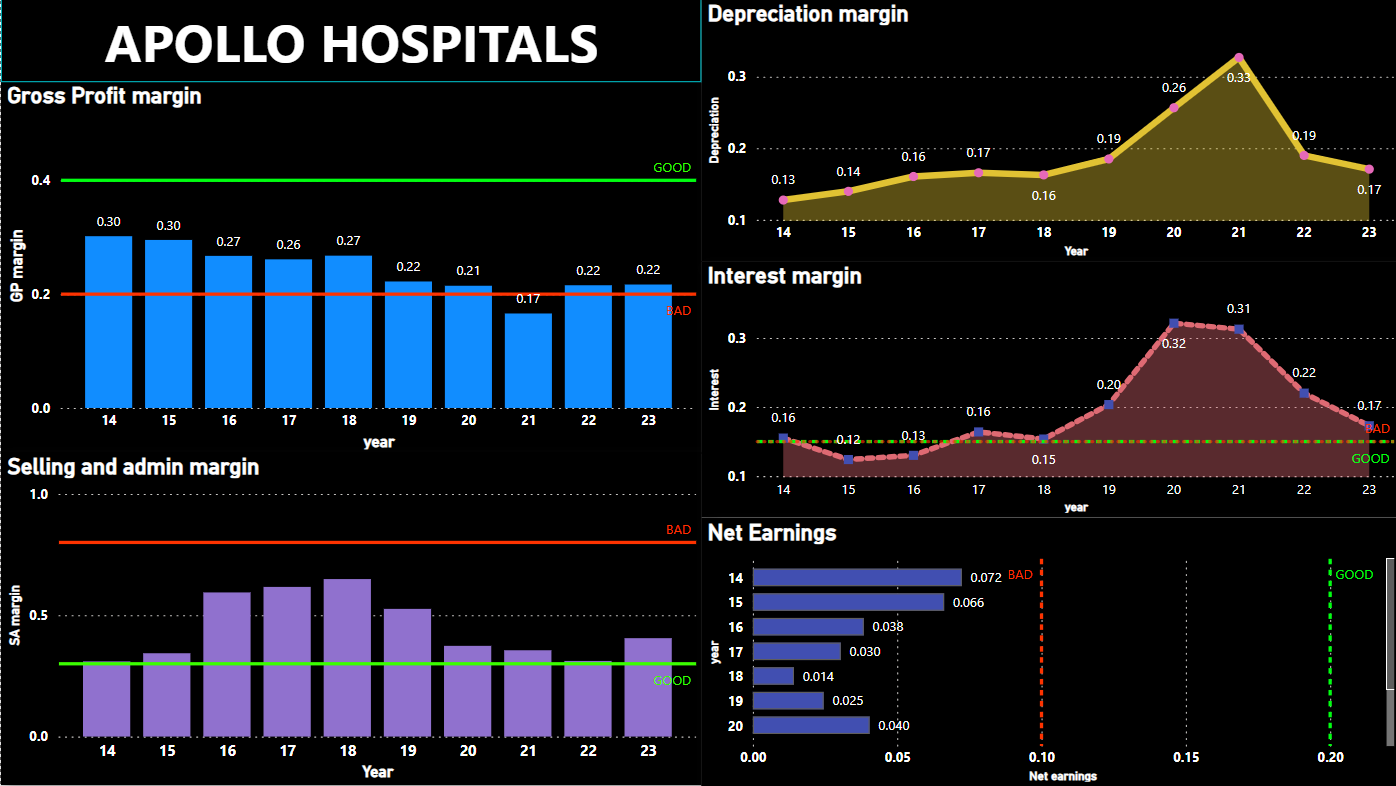

The page's visual inventory and layout, read from the dashboard file:
{"tool":"powerbi","page":{"name":"INCOME","canvas":[1280,720],"ordinal":0},"visuals":[{"type":"clusteredColumnChart","title":" Gross Profit margin","fields":{"Category":["analyzer.Report Date.Variation.Date Hierarchy.Day"],"Y":["Sum(analyzer.Gross Profit margin(GPM = GP/S *100))"]},"box":[0,75.7,640.5,340.7],"z":0},{"type":"clusteredColumnChart","title":"Selling and admin margin","fields":{"Category":["analyzer.Report Date.Variation.Date Hierarchy.Day"],"Y":["Sum(analyzer.Selling and admin margin(SDM = SA/GP *100 ))"]},"box":[0,414.9,640.5,304.4],"z":1000},{"type":"lineChart","title":"Depreciation margin","fields":{"Category":["analyzer.Report Date.Variation.Date Hierarchy.Day"],"Y":["Sum(analyzer.Depreciation margin(DM = D/GP *100))"]},"box":[640.6,0,638.7,240],"z":2000},{"type":"lineChart","title":"Interest  margin","fields":{"Y":["Sum(analyzer.Interest  margin(I/OPE *100))"],"Category":["analyzer.Report Date.Variation.Date Hierarchy.Day"]},"box":[640.6,240,638.7,234.3],"z":3000},{"type":"clusteredBarChart","title":" Net Earnings","fields":{"Category":["analyzer.Report Date.Variation.Date Hierarchy.Day"],"Y":["Sum(analyzer.Net Earnings(NE = NP/(S+OI) * 100))"]},"box":[640.6,474.3,638.7,245.7],"z":4000},{"type":"textbox","box":[0,0,640.5,75.7],"z":5000}]}

Visuals, with their boxes in screenshot pixels (x1, y1, x2, y2), scaled from the page's 1280x720 canvas onto the 1396x786 screenshot:
" Gross Profit margin" clusteredColumnChart: 0/83/699/455
"Selling and admin margin" clusteredColumnChart: 0/453/699/785
"Depreciation margin" lineChart: 699/0/1395/262
"Interest  margin" lineChart: 699/262/1395/518
" Net Earnings" clusteredBarChart: 699/518/1395/785
textbox: 0/0/699/83
